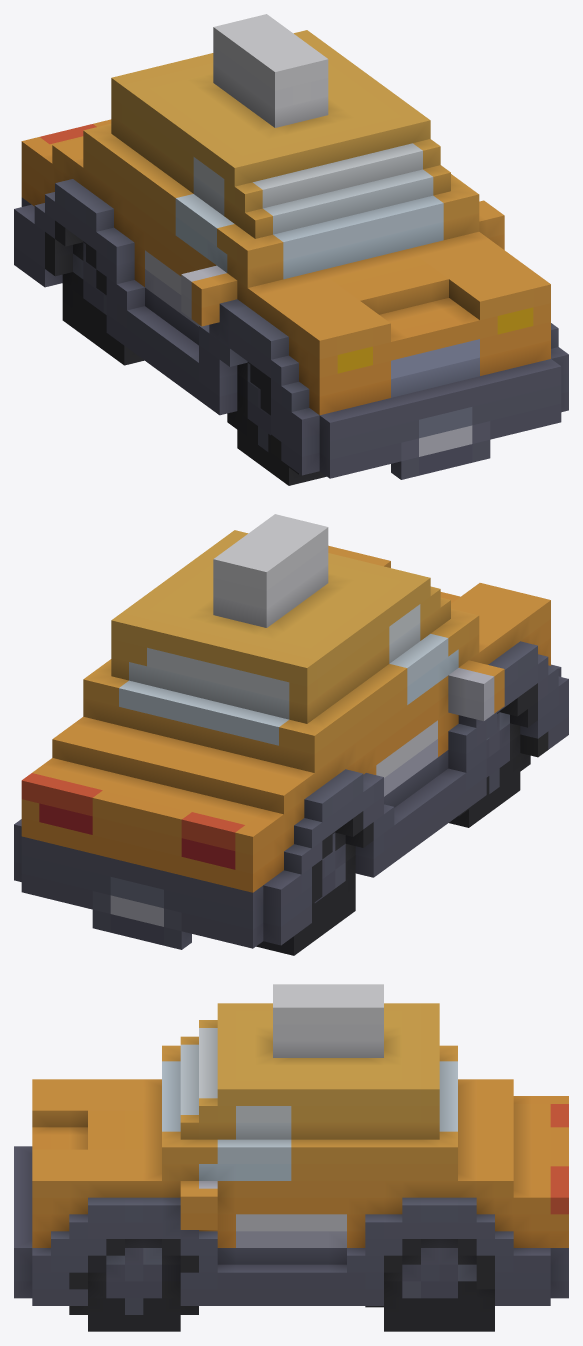
Rendered from taxi.glb.
3 renders of one model, top to bottom at view 1: azimuth 30°, elevation 25°; view 2: azimuth 150°, elevation 25°; view 3: azimuth 270°, elevation 25°, orthographic. The views are drawn at different scales.
Parts seen in each view (by area): view 1: voxels; view 2: voxels; view 3: voxels.
Boxes of the visible parts, box(x1,y1,x2,y2) form: voxels: box(14, 14, 568, 485); voxels: box(14, 514, 568, 955); voxels: box(14, 984, 568, 1331).
Size of the model in its own units: 1.59 by 1.59 by 2.81.
